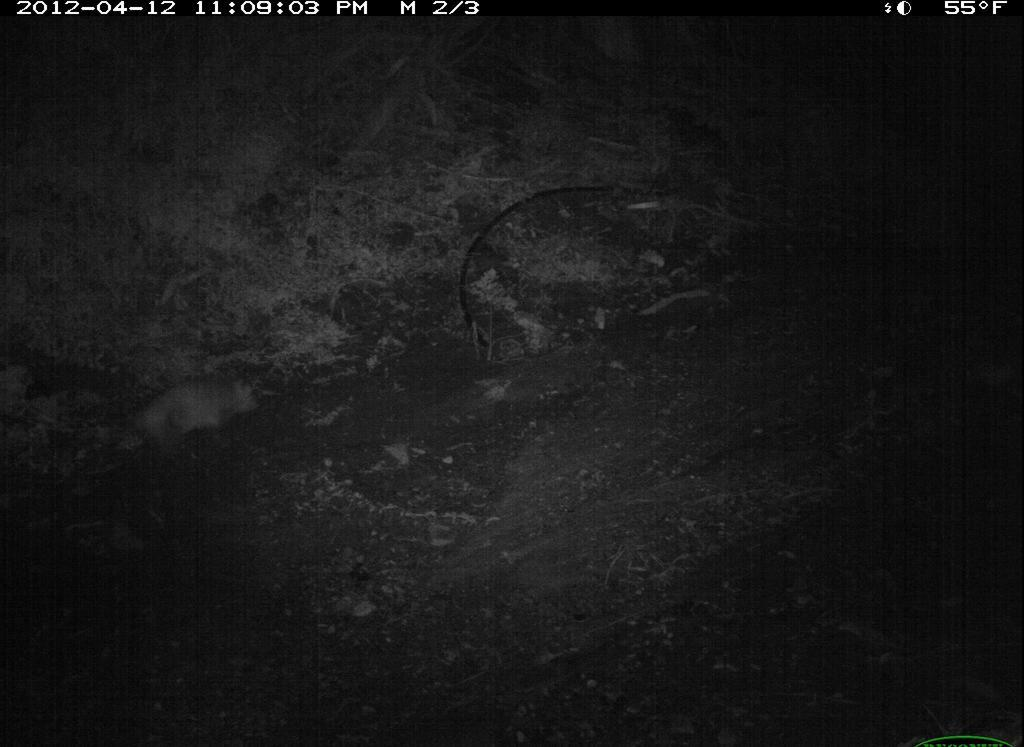opossum: (86, 364, 313, 452)
